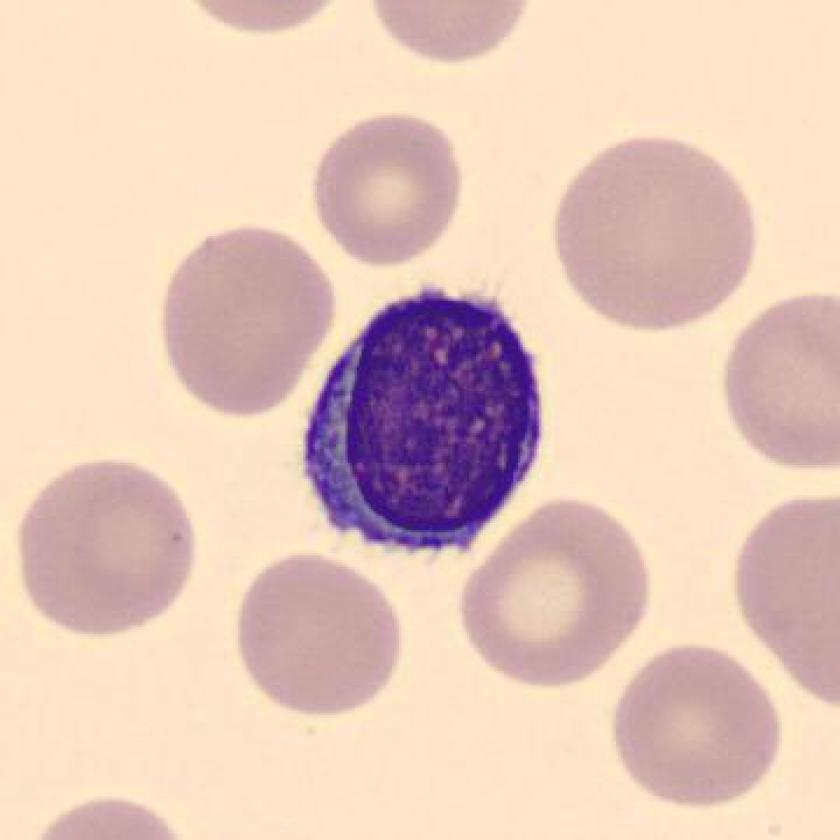lymphocyte: (286, 274, 563, 582)
